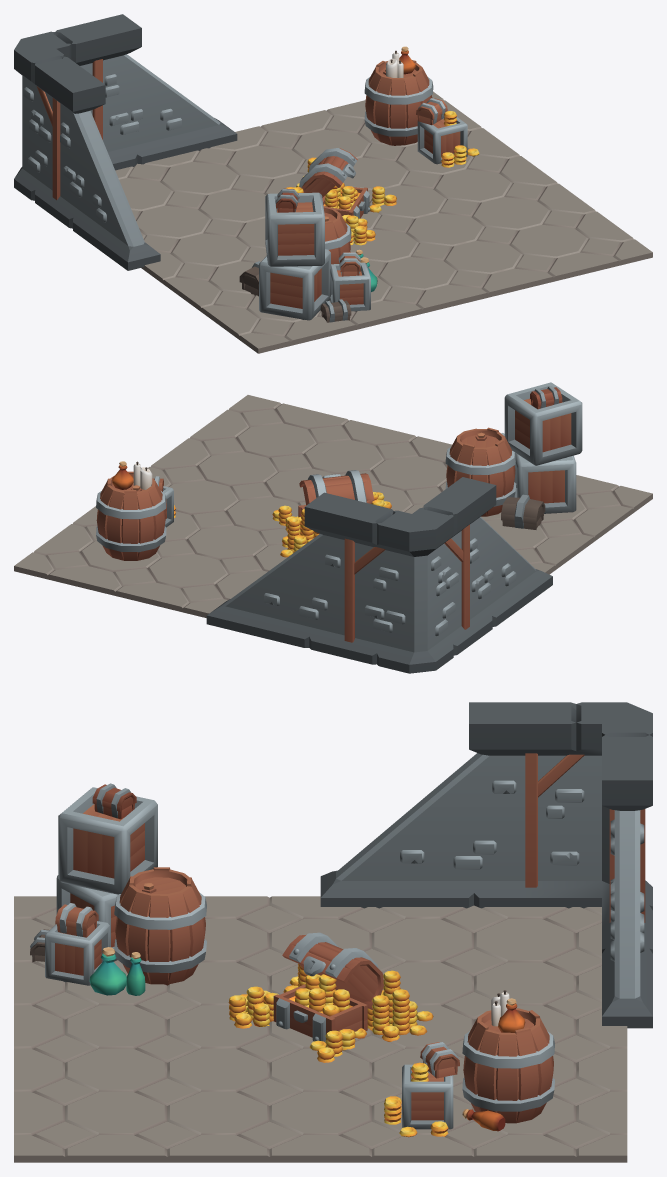
Rendered from TitleMap.glb.
3 views of the same model, one above another, from view 1: azimuth 30°, elevation 25°; view 2: azimuth 150°, elevation 25°; view 3: azimuth 270°, elevation 25° (orthographic). The views are drawn at different scales.
Parts seen in each view (by area): view 1: floor_tile_large, box_stacked, wall_sloped.001, wall_sloped, wall_corner_scaffold, barrel_large_decorated, box_small_decorated, chest_gold_lid, chest_gold, coin_stack_medium; view 2: floor_tile_large, wall_corner_scaffold, box_stacked, wall_sloped.001, wall_sloped, barrel_large_decorated, chest_gold_lid, coin_stack_large, box_small_decorated; view 3: floor_tile_large, box_stacked, wall_sloped, wall_corner_scaffold, wall_sloped.001, barrel_large_decorated, box_small_decorated, chest_gold, chest_gold_lid, coin_stack_large, coin_stack_medium, coin_stack_small.
Boxes of the visible parts, x1,y1,x2,y2 form: floor_tile_large: [115, 91, 652, 353]; box_stacked: [239, 188, 377, 322]; wall_sloped.001: [87, 14, 237, 170]; wall_sloped: [52, 69, 160, 270]; wall_corner_scaffold: [14, 23, 105, 214]; barrel_large_decorated: [364, 46, 433, 145]; box_small_decorated: [416, 98, 479, 167]; chest_gold_lid: [299, 148, 357, 197]; chest_gold: [322, 183, 370, 218]; coin_stack_medium: [342, 214, 375, 245]; floor_tile_large: [14, 395, 652, 617]; wall_corner_scaffold: [342, 492, 474, 673]; box_stacked: [445, 382, 582, 529]; wall_sloped.001: [206, 492, 360, 656]; wall_sloped: [441, 477, 552, 641]; barrel_large_decorated: [96, 461, 166, 560]; chest_gold_lid: [299, 470, 374, 505]; coin_stack_large: [280, 509, 319, 557]; box_small_decorated: [152, 476, 175, 527]; floor_tile_large: [14, 896, 627, 1162]; box_stacked: [30, 783, 206, 995]; wall_sloped: [320, 702, 525, 908]; wall_corner_scaffold: [525, 702, 652, 929]; wall_sloped.001: [602, 756, 652, 1028]; barrel_large_decorated: [462, 990, 554, 1131]; box_small_decorated: [384, 1042, 459, 1137]; chest_gold: [273, 974, 367, 1042]; chest_gold_lid: [282, 932, 383, 1009]; coin_stack_large: [354, 970, 433, 1041]; coin_stack_medium: [228, 986, 278, 1028]; coin_stack_small: [309, 1029, 355, 1062].
Size of the model in its own units: 12.5 by 4.1 by 12.5.
Materials: 1 (1 with a texture image).
